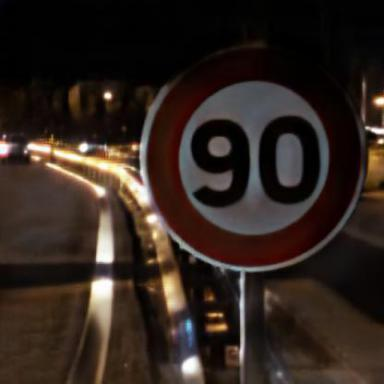Speed_limit_90: (151, 57, 359, 264)
